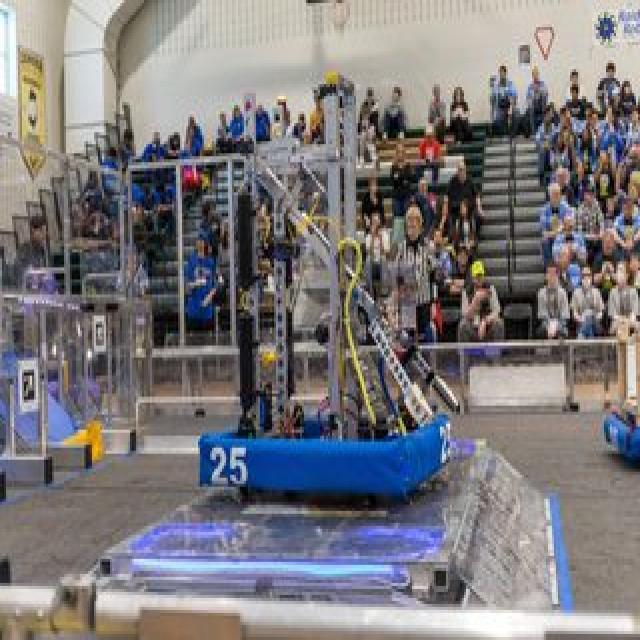robot: (195, 111, 465, 488), (603, 312, 640, 467)
